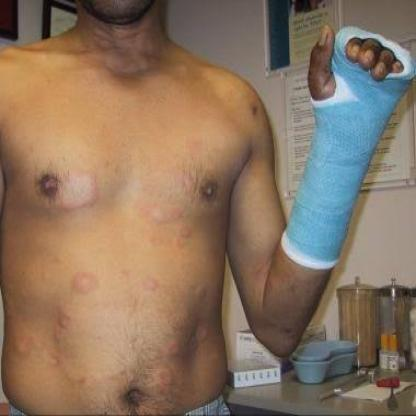Hansen-s Disease-Leprosy: (57, 161, 96, 216), (69, 264, 102, 301)
